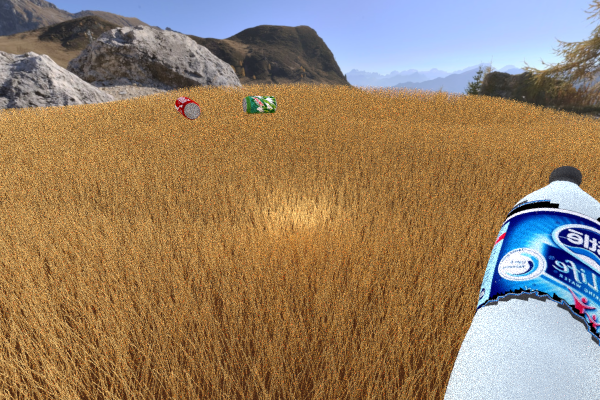bottle: (439, 165, 600, 400)
can: (242, 96, 276, 113), (175, 96, 200, 119)
